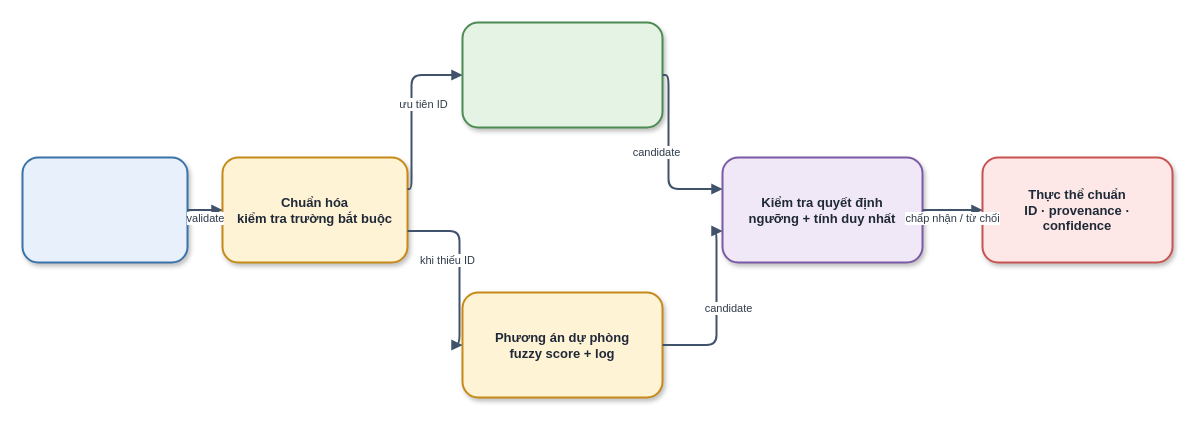
This 1196x422 diagram has some shape labels left out. The centre of each missing label's shape, as x and y in pixels:
"Dữ liệu thô TMDB records" belongs at [105,211].
"Đối sánh chính exact stable ID" belongs at [563,76].
